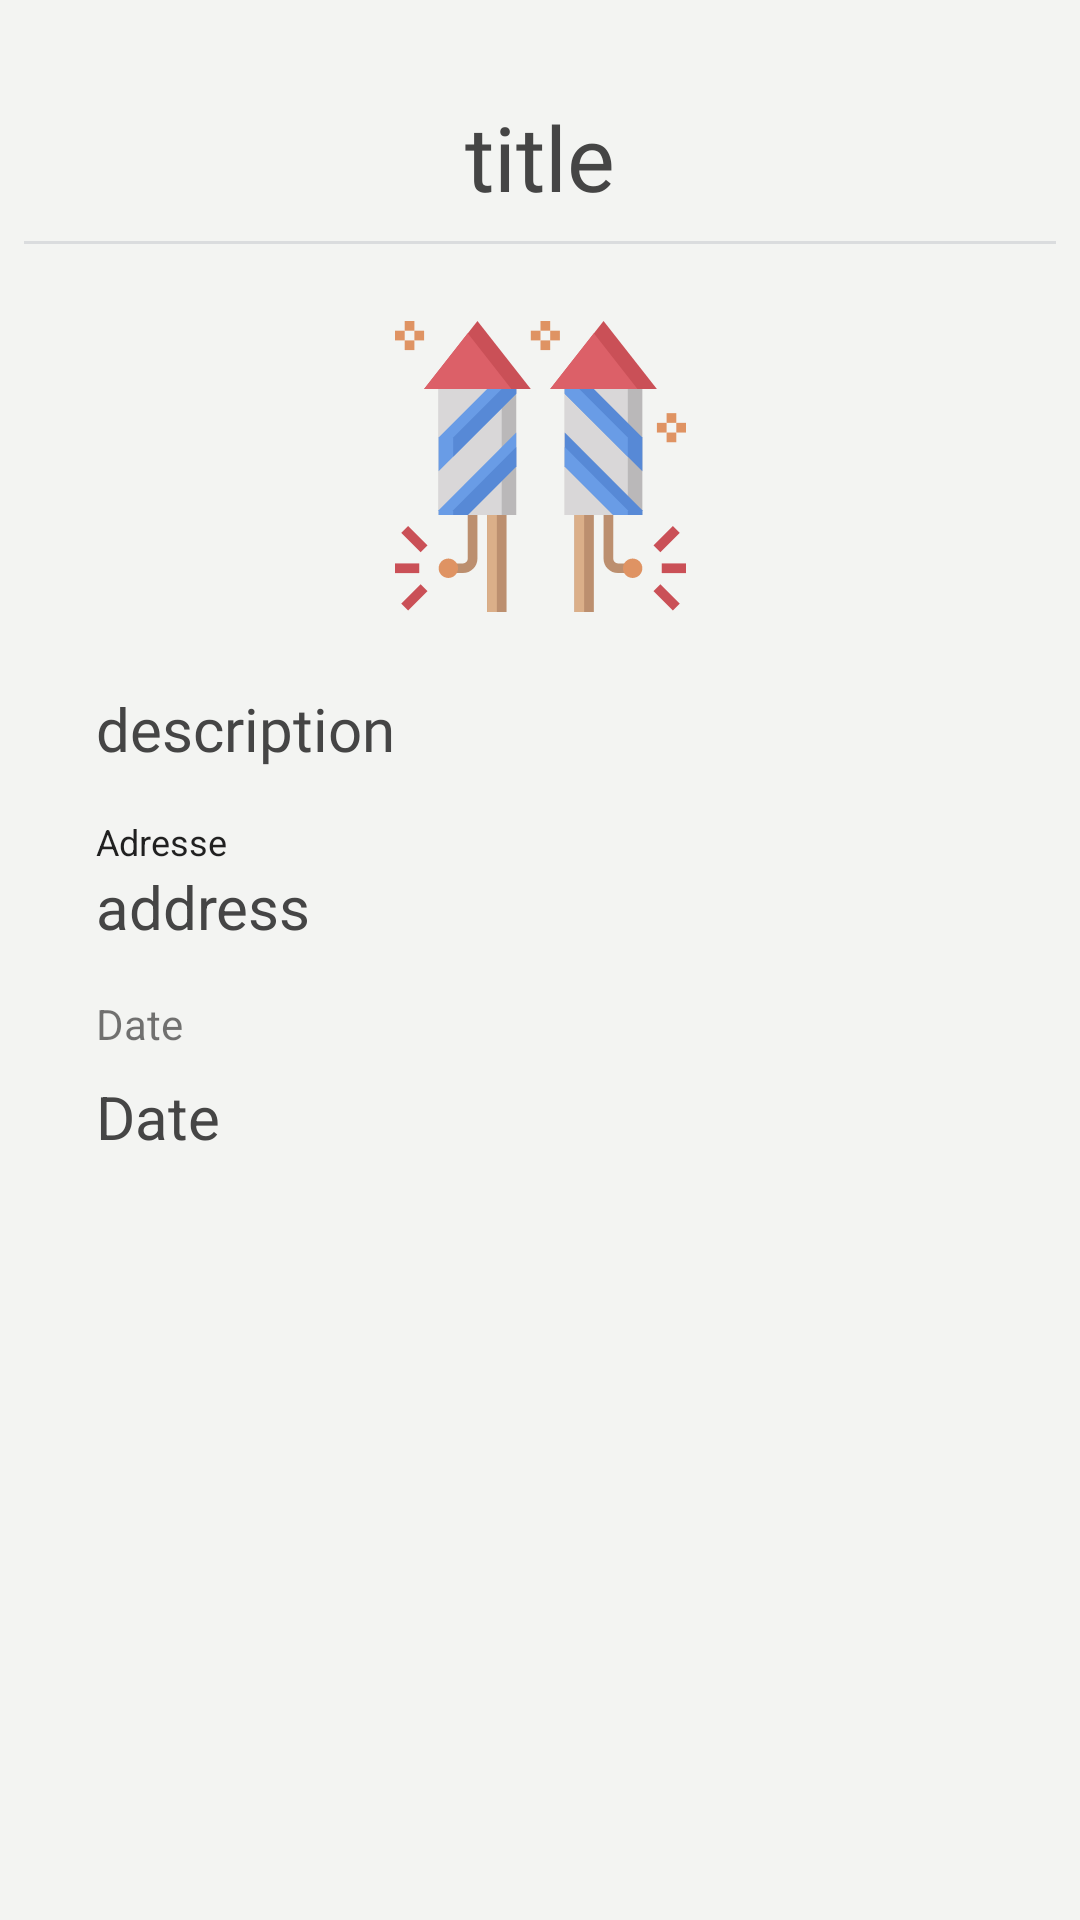

Screen size 1080*1920. Icon name, then its center in pixels as (x=x, y=y):
events: (x=540, y=466)
